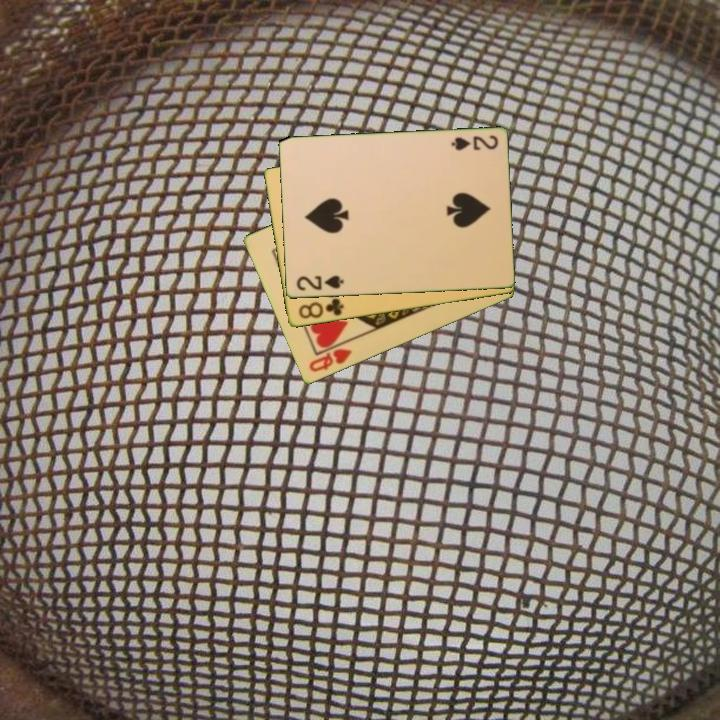2s: (447, 132, 500, 154), (293, 272, 346, 293)
8c: (295, 295, 347, 322)
Qh: (305, 345, 355, 375)
